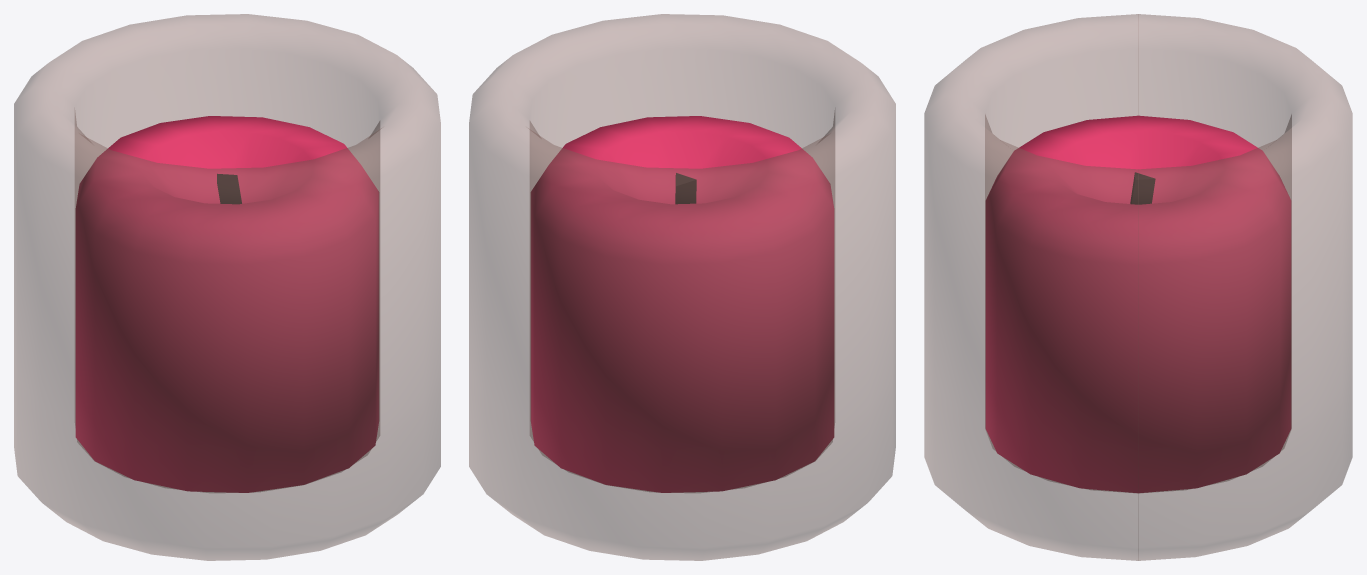
The model's file is Candle_01.glb.
3 views of the same model, side by side, from view 1: azimuth 30°, elevation 25°; view 2: azimuth 150°, elevation 25°; view 3: azimuth 270°, elevation 25° (orthographic).
Visible parts, largest first — view 1: Candle_01; view 2: Candle_01; view 3: Candle_01.
Boxes of the visible parts, left/top/right/bottom form: Candle_01: left=14, top=14, right=440, bottom=560; Candle_01: left=469, top=14, right=895, bottom=560; Candle_01: left=924, top=14, right=1352, bottom=560.
Bounding box in the file's own units: 0.11 × 0.1093 × 0.11.
Materials: 2 (2 with a texture image).
